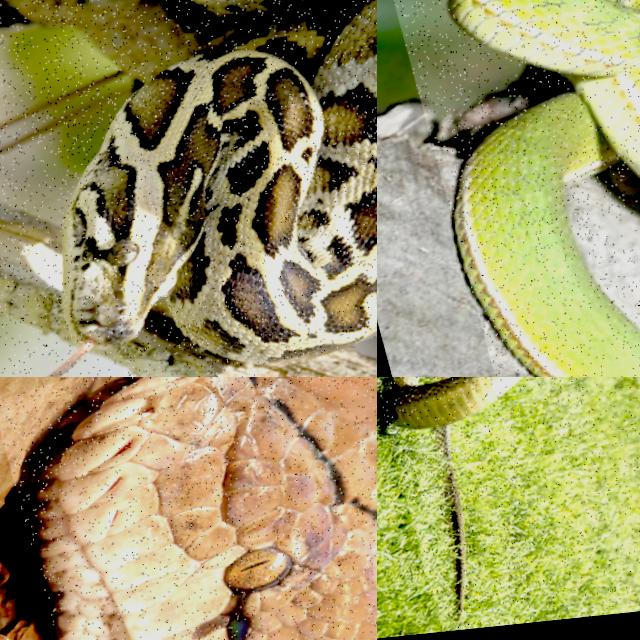Malayopython reticulatus: (39, 377, 376, 639)
Ophiophagus hannah: (381, 377, 521, 629)
Python bivittatus: (45, 0, 376, 376)
Trimeresurus: (449, 0, 639, 376)
snake: (45, 0, 376, 376), (39, 377, 376, 639), (449, 0, 639, 376), (381, 377, 521, 629)
